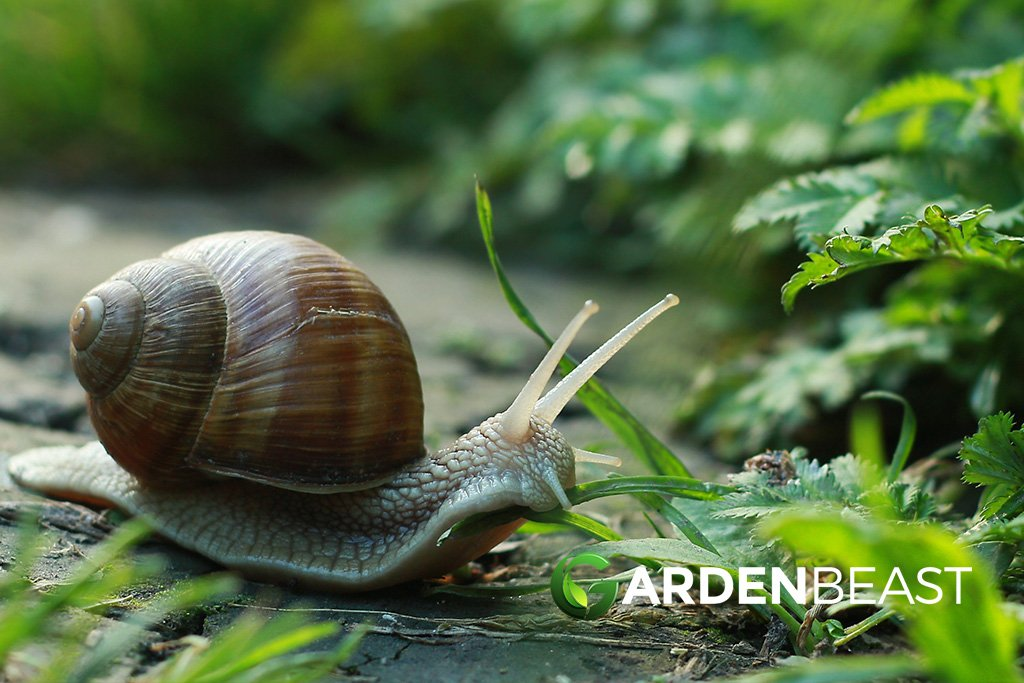snail: (16, 233, 671, 608)
